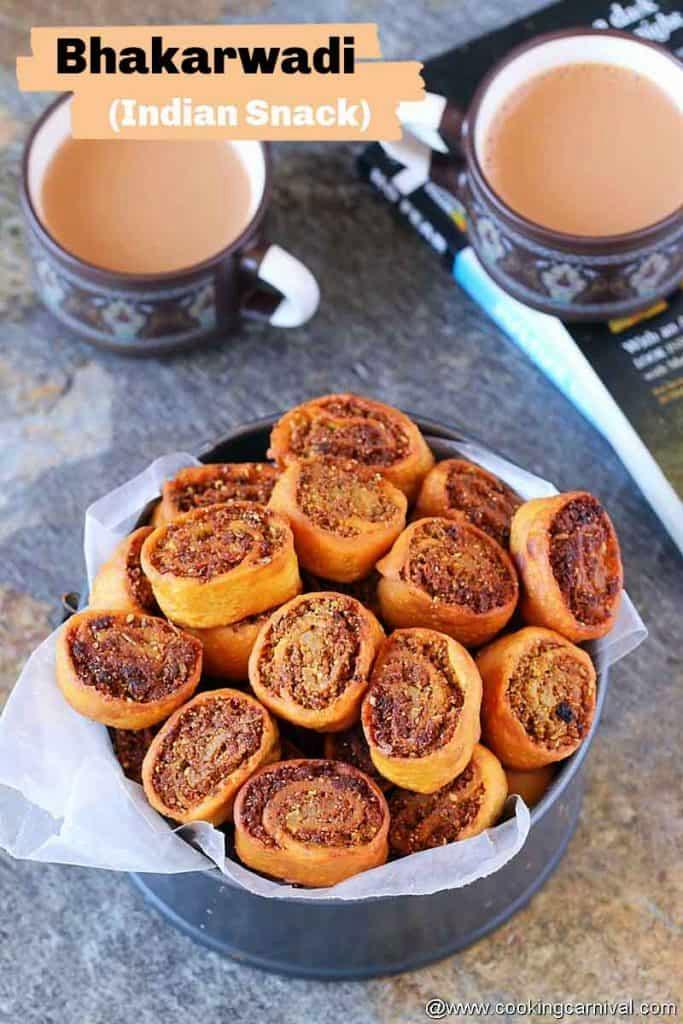bhakarwadi: (60, 402, 616, 877)
